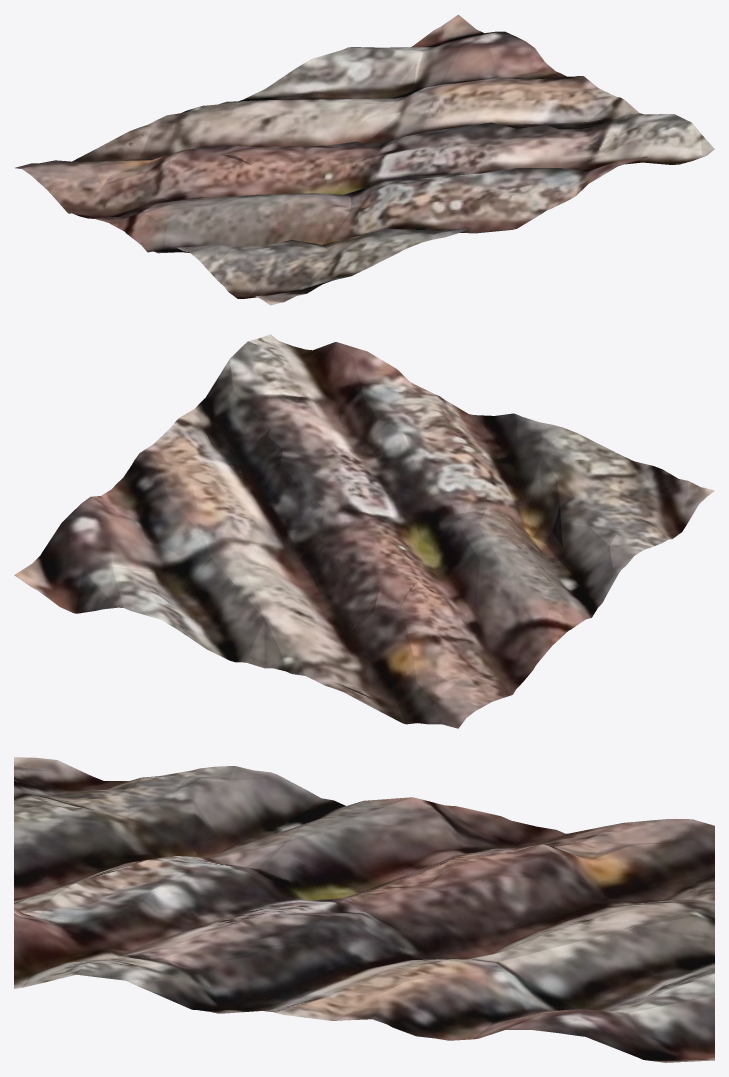
The picture shows the model from 3 angles, top to bottom: view 1: azimuth 30°, elevation 25°; view 2: azimuth 150°, elevation 25°; view 3: azimuth 270°, elevation 25°; orthographic projection. The views are drawn at different scales.
Size of the model in its own units: 0.8374 by 0.2094 by 0.8374.
Materials: 3 (3 with a texture image).
